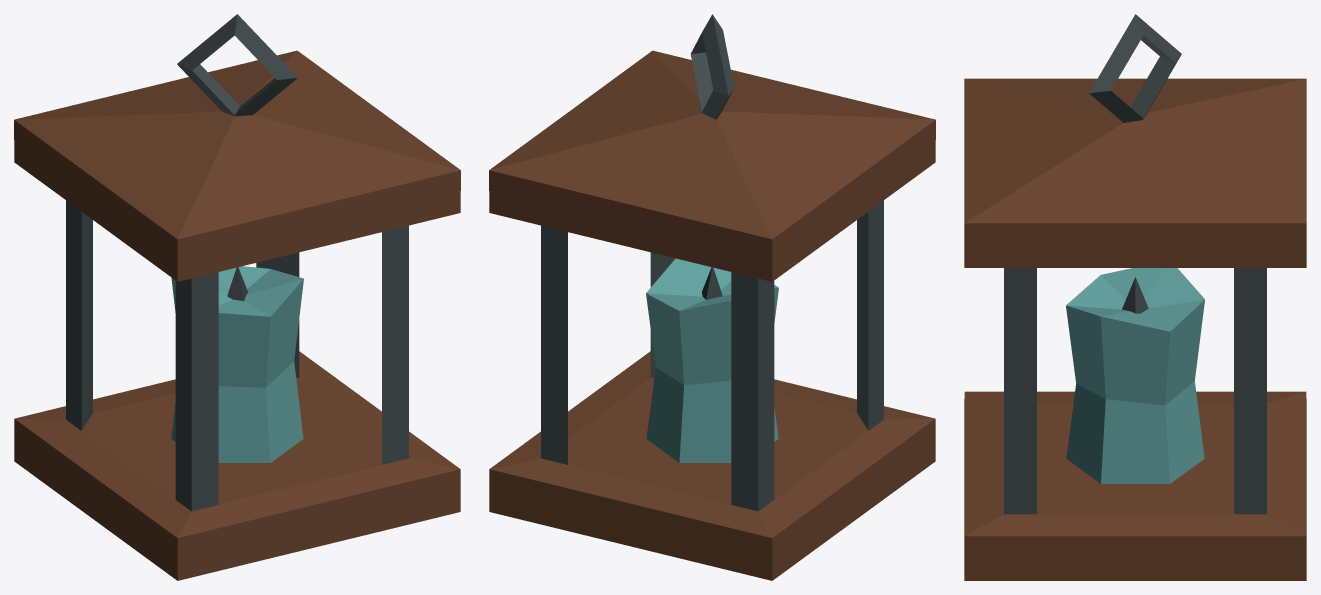
File: Lamp_5_Blue.fbx
3 renders of one model, left to right at view 1: azimuth 30°, elevation 25°; view 2: azimuth 150°, elevation 25°; view 3: azimuth 270°, elevation 25°, orthographic. The views are drawn at different scales.
Parts seen in each view (by area): view 1: Lamp_5_Blue; view 2: Lamp_5_Blue; view 3: Lamp_5_Blue.
Part boxes in pixels (x1,y1,x2,y2): Lamp_5_Blue: (14,14,460,580); Lamp_5_Blue: (489,14,935,580); Lamp_5_Blue: (964,14,1306,580).
Bounding box in the file's own units: 26.04 × 41.5 × 26.04.
